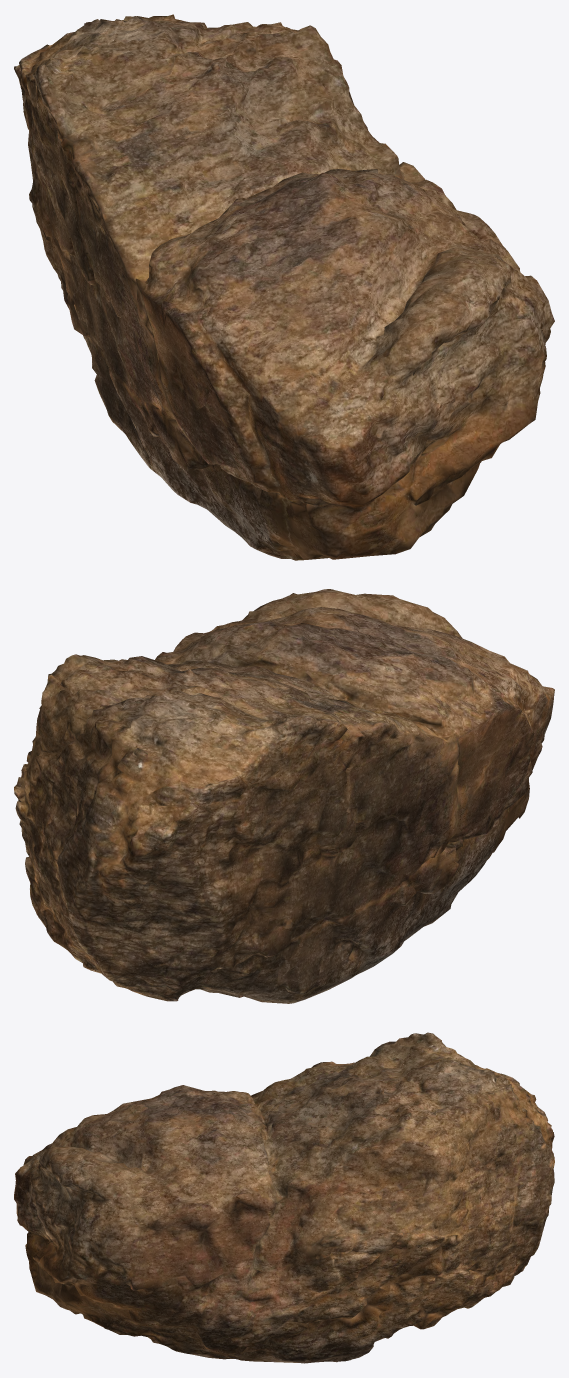
Rendered from prop-boulder6-f67ac741.glb.
3 views of the same model, one above another, from view 1: azimuth 30°, elevation 25°; view 2: azimuth 150°, elevation 25°; view 3: azimuth 270°, elevation 25° (orthographic). The views are drawn at different scales.
Parts seen in each view (by area): view 1: namaqualand_boulder_06; view 2: namaqualand_boulder_06; view 3: namaqualand_boulder_06.
Part boxes in pixels (<box>): namaqualand_boulder_06: <box>14,14,554,560</box>; namaqualand_boulder_06: <box>14,589,554,1003</box>; namaqualand_boulder_06: <box>14,1032,554,1363</box>.
Size of the model in its own units: 0.6747 by 0.6512 by 1.21.
Materials: 1 (1 with a texture image).
